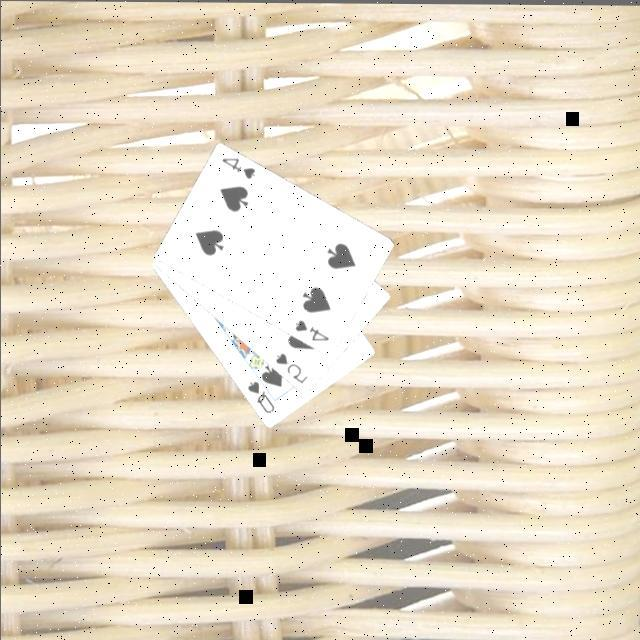4S: (292, 315, 334, 342), (219, 152, 259, 180)
5S: (273, 348, 311, 385)
QS: (245, 376, 279, 414)
